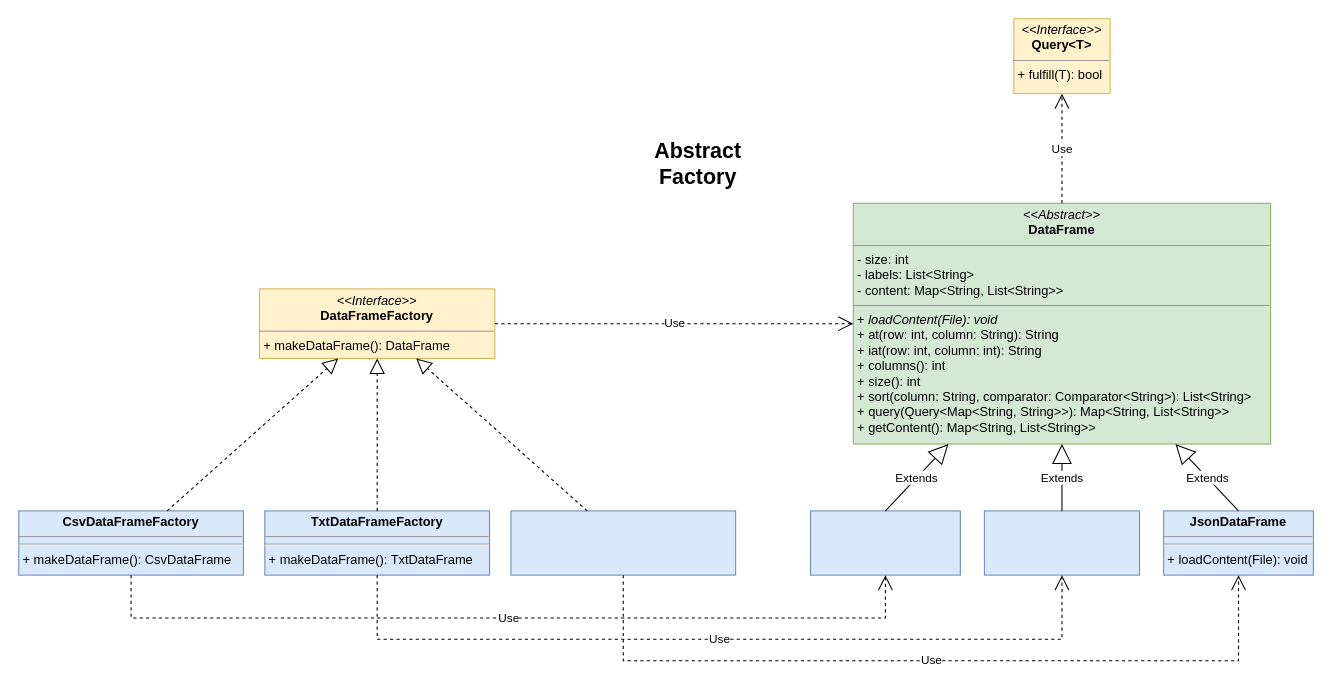
This 1332x694 diagram has some shape labels left out. The shapes that lost their labels are listed below. From the top down, each one's centre as x and y in pixels, then its label:
point (623, 542): JsonDataFrameFactory + makeDataFrame(): JsonDataFrame
point (884, 542): CsvDataFrame + loadContent(File): void
point (1061, 542): TxtDataFrame + loadContent(File): void
